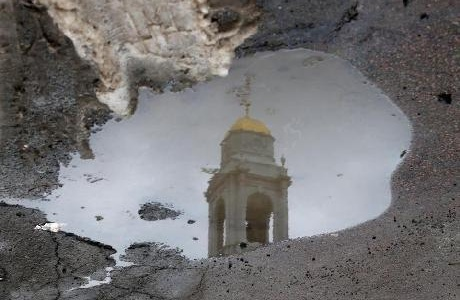pothole: (15, 47, 414, 267)
